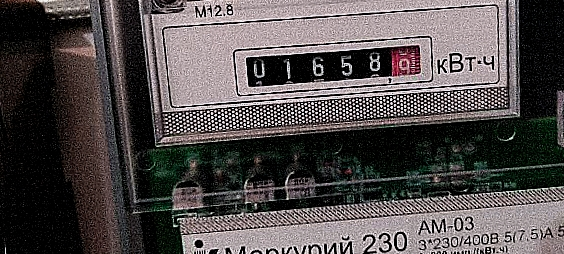0: (251, 56, 266, 79)
1: (281, 57, 293, 79)
5: (338, 52, 354, 76)
6: (309, 54, 325, 77)
8: (366, 49, 382, 72)
9: (394, 55, 410, 77)
screen: (226, 26, 442, 104)
